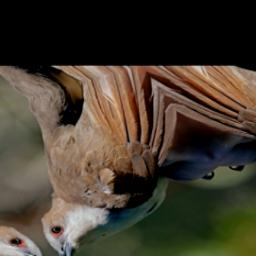Cuckoo: (0, 66, 256, 256)
